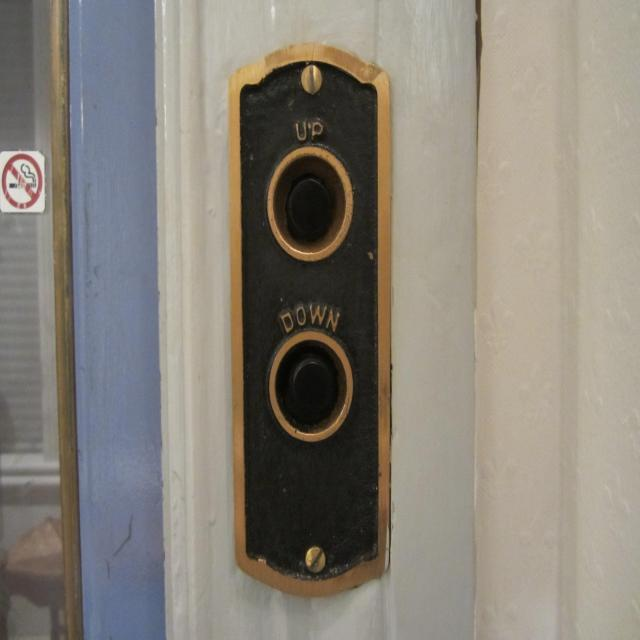empty: (265, 144, 355, 266), (266, 326, 354, 443)
